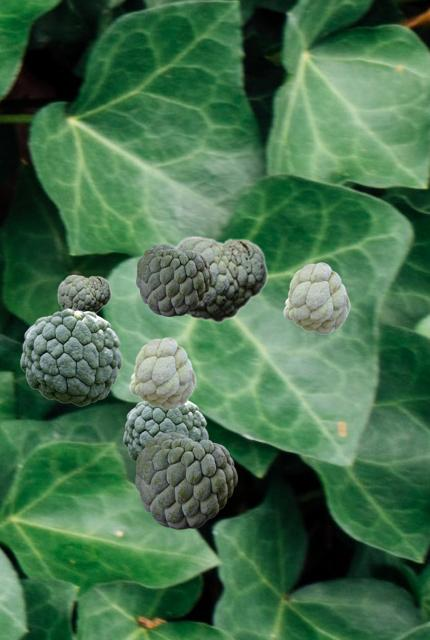atis: (20, 308, 121, 405), (135, 432, 236, 528), (173, 235, 267, 322), (136, 244, 211, 315), (123, 400, 207, 462), (129, 337, 195, 408), (283, 262, 349, 333), (57, 274, 110, 313)
